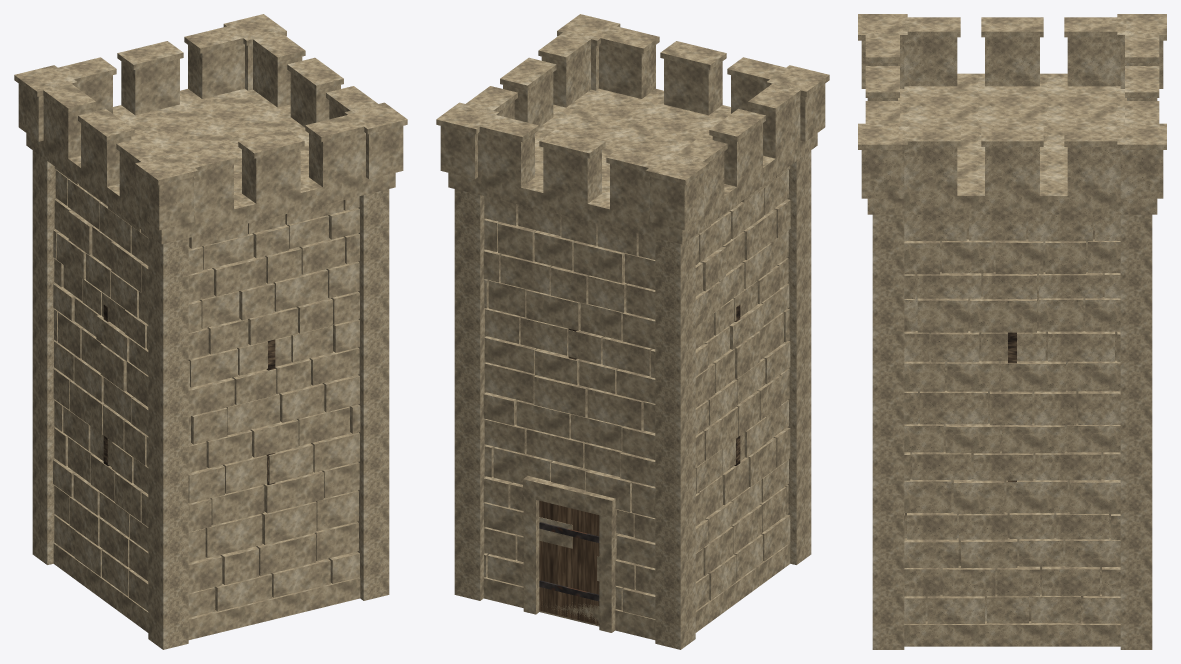
File: torre_quadrata.gltf
The picture shows the model from 3 angles, left to right: view 1: azimuth 30°, elevation 25°; view 2: azimuth 150°, elevation 25°; view 3: azimuth 270°, elevation 25°; orthographic projection. The views are drawn at different scales.
Visible parts, largest first — view 1: torre_quadrata; view 2: torre_quadrata; view 3: torre_quadrata.
Part boxes in pixels (bbox=[...]): torre_quadrata: bbox=[14, 14, 407, 649]; torre_quadrata: bbox=[436, 14, 829, 649]; torre_quadrata: bbox=[858, 14, 1166, 649].
Size of the model in its own units: 4.48 by 8.19 by 4.48.
Materials: 4 (4 with a texture image).
